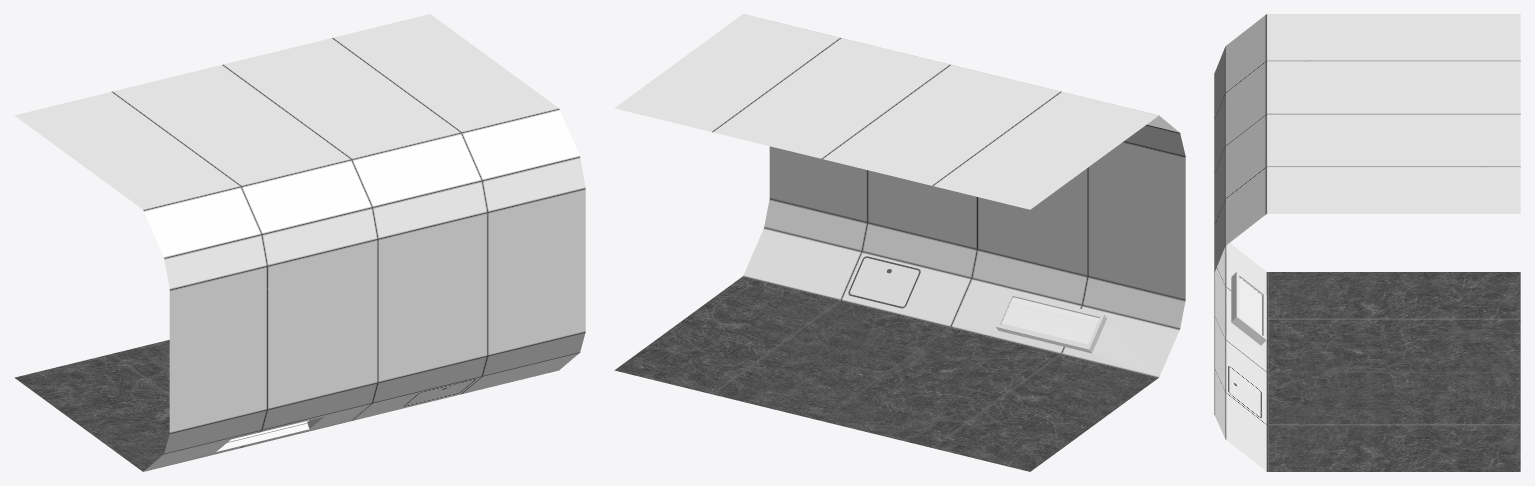
Rendered from Wall_4_Plain_With_Vents.FBX.
3 views of the same model, side by side, from view 1: azimuth 30°, elevation 25°; view 2: azimuth 150°, elevation 25°; view 3: azimuth 270°, elevation 25° (orthographic).
Parts seen in each view (by area): view 1: Plane066; view 2: Plane066; view 3: Plane066.
Boxes of the visible parts, bbox=[...] form: Plane066: bbox=[14, 14, 585, 471]; Plane066: bbox=[614, 14, 1185, 471]; Plane066: bbox=[1214, 14, 1520, 471].
Size of the model in its own units: 135 by 81.07 by 87.14.
